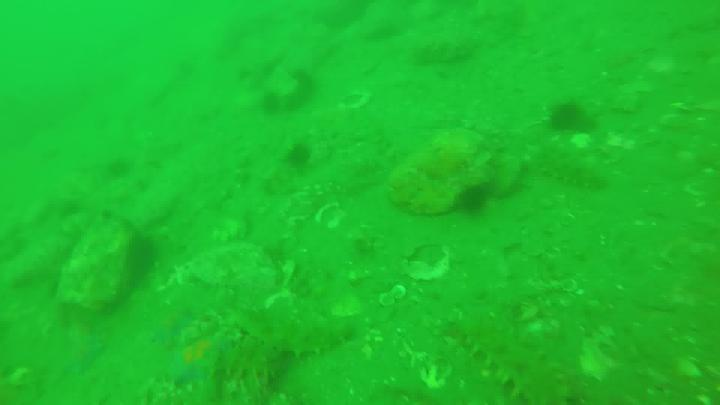echinus: (460, 179, 489, 213), (551, 99, 580, 132), (260, 89, 284, 111), (292, 145, 311, 171)
holothurian: (459, 315, 564, 405), (223, 307, 351, 356), (525, 145, 607, 193)
scallop: (309, 204, 348, 229), (379, 286, 409, 307), (659, 115, 691, 129)
starfish: (172, 337, 231, 388), (56, 325, 104, 374), (150, 311, 199, 345)
